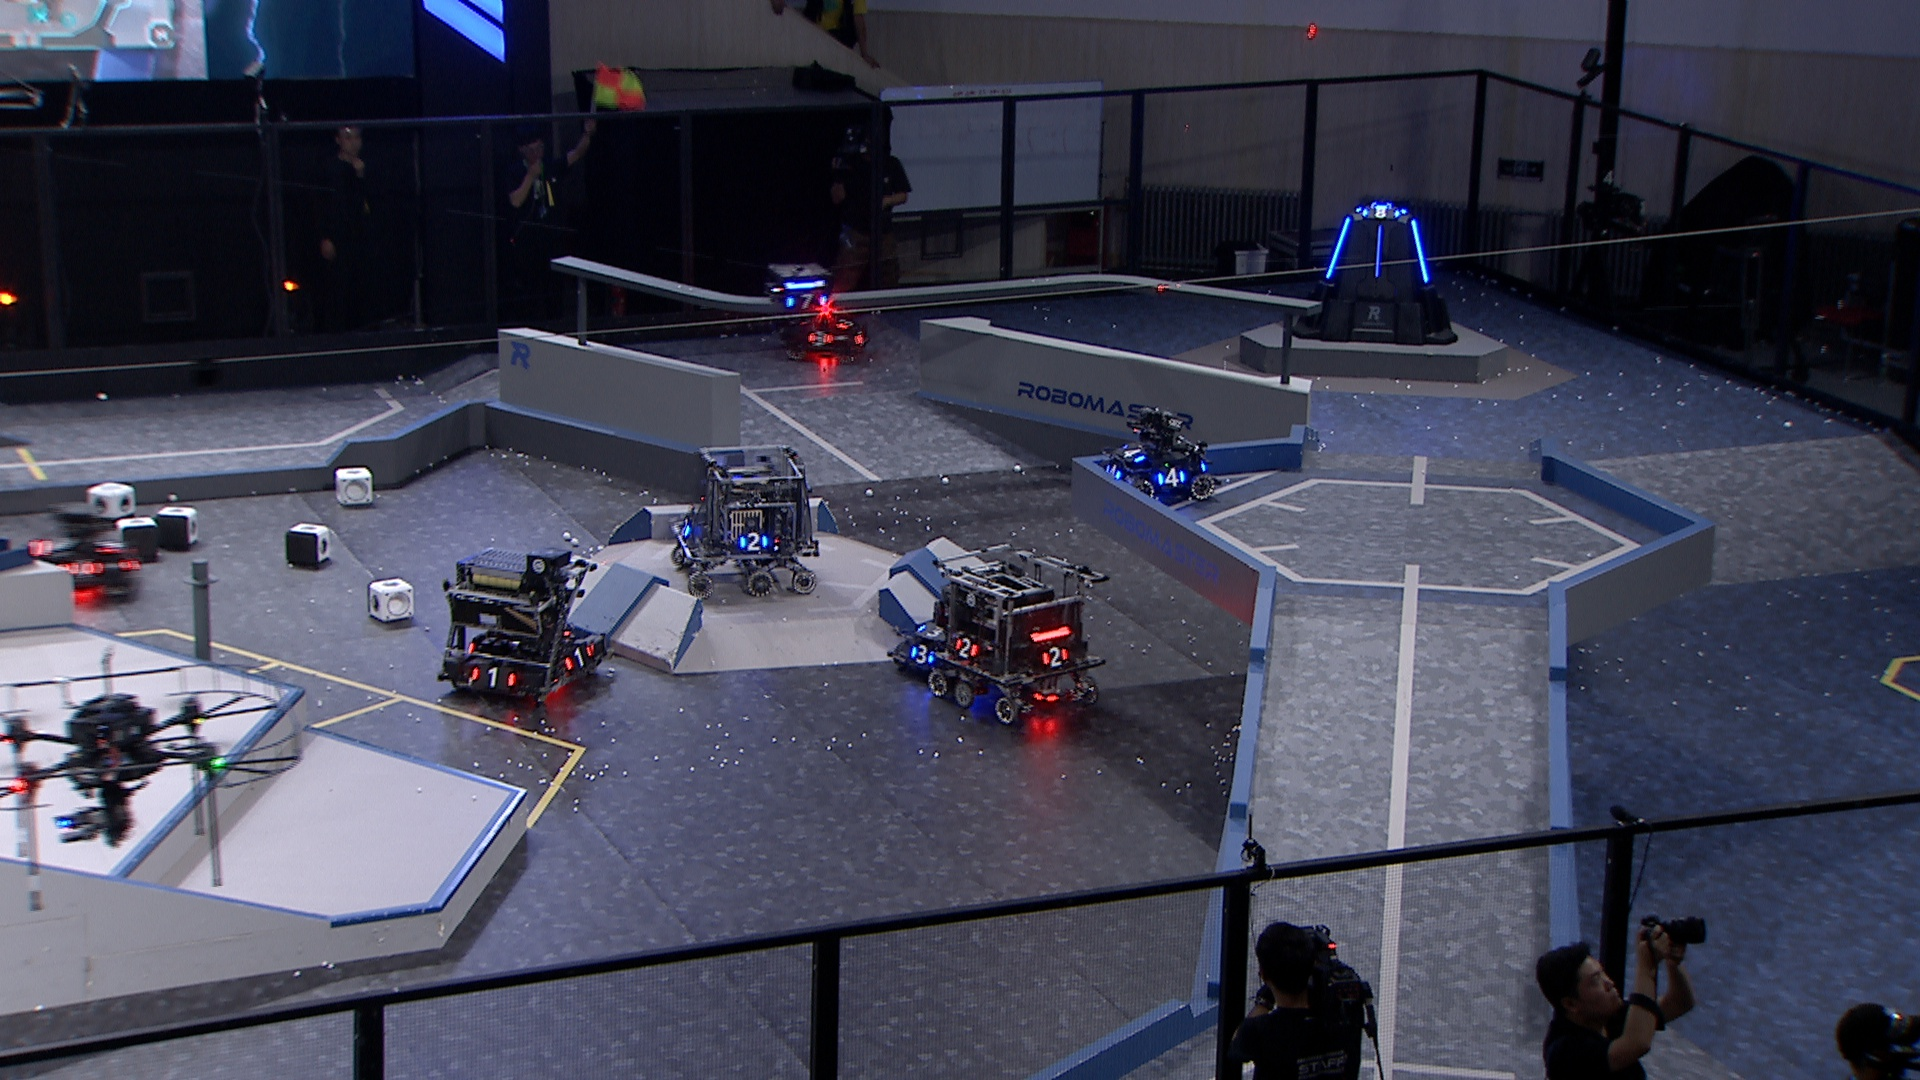armor: (1320, 210, 1354, 282), (1408, 219, 1432, 286), (468, 666, 520, 688), (735, 529, 771, 555), (781, 291, 829, 311), (1040, 644, 1072, 671), (54, 556, 100, 575), (560, 646, 593, 670), (1156, 465, 1188, 489), (1371, 224, 1385, 281), (1358, 204, 1400, 220), (910, 644, 936, 669), (803, 328, 836, 348), (916, 621, 949, 641), (953, 636, 978, 661), (1120, 443, 1149, 462), (828, 315, 856, 334), (1102, 462, 1125, 481), (678, 514, 692, 541)
base: (1280, 199, 1462, 348)
car: (938, 538, 1106, 723), (436, 538, 611, 704), (670, 436, 825, 603), (16, 501, 152, 608), (1097, 404, 1225, 505), (887, 584, 1005, 688), (775, 286, 872, 363)
watcher: (766, 258, 840, 345)
